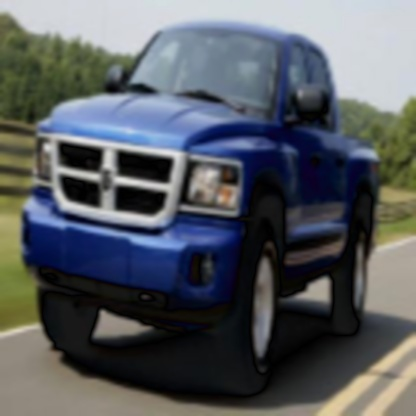Vehicle: (17, 13, 391, 404)
